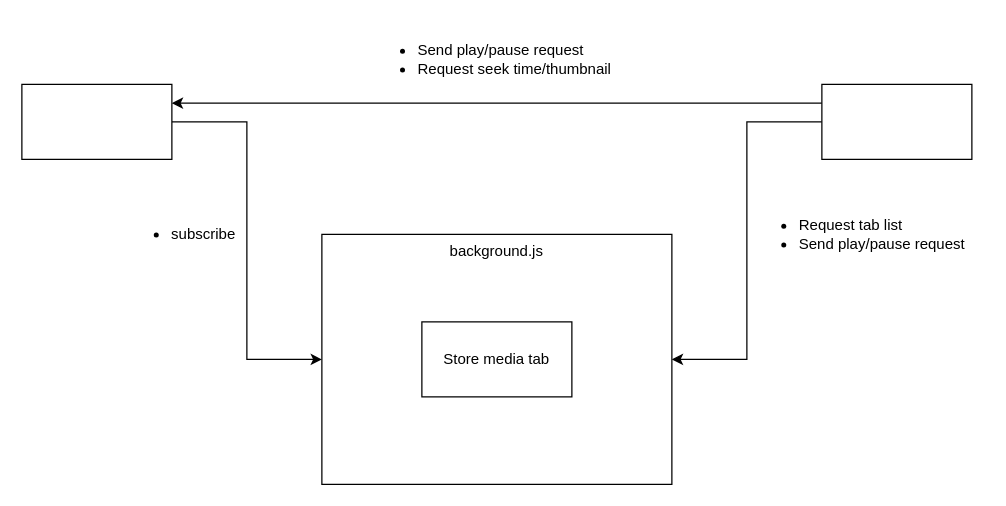
The diagram is 1006 pixels wide and 506 high, and some of its shapes have lost their labels. The shapes that lost their labels are listed below. From the top down, each one's centre as x and y in pixels, then its label:
At (x=96, y=121): "main.js".
At (x=896, y=121): "popup.js".
